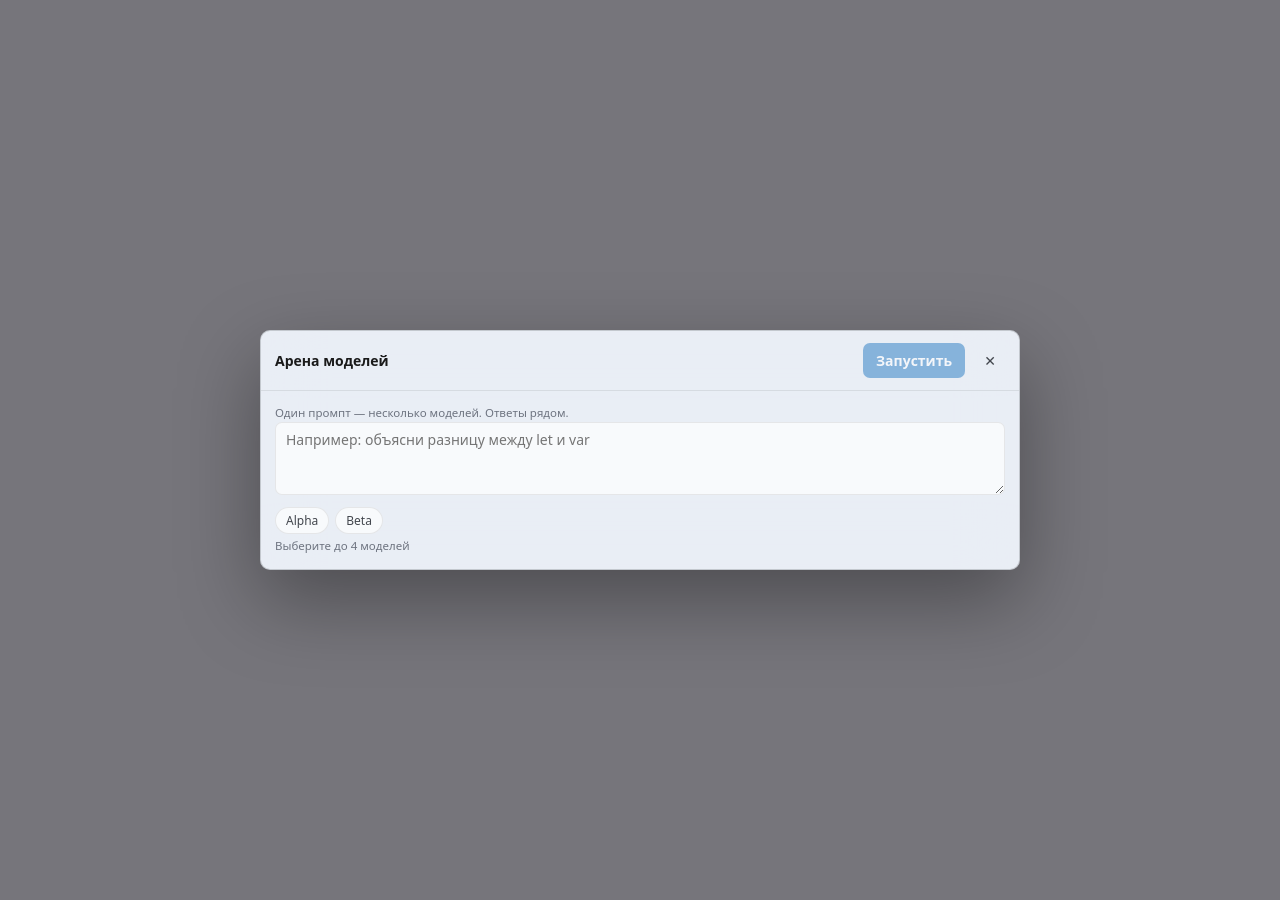
Test: the model arena › will not run on a single model or without a prompt
Expected: the button "Alpha" is shown, top-left (275, 507), bottom-right (329, 534)
# A prompt alone is not enough.
In the text box: (640, 458) top-left (275, 422), bottom-right (1005, 495), type "привет"
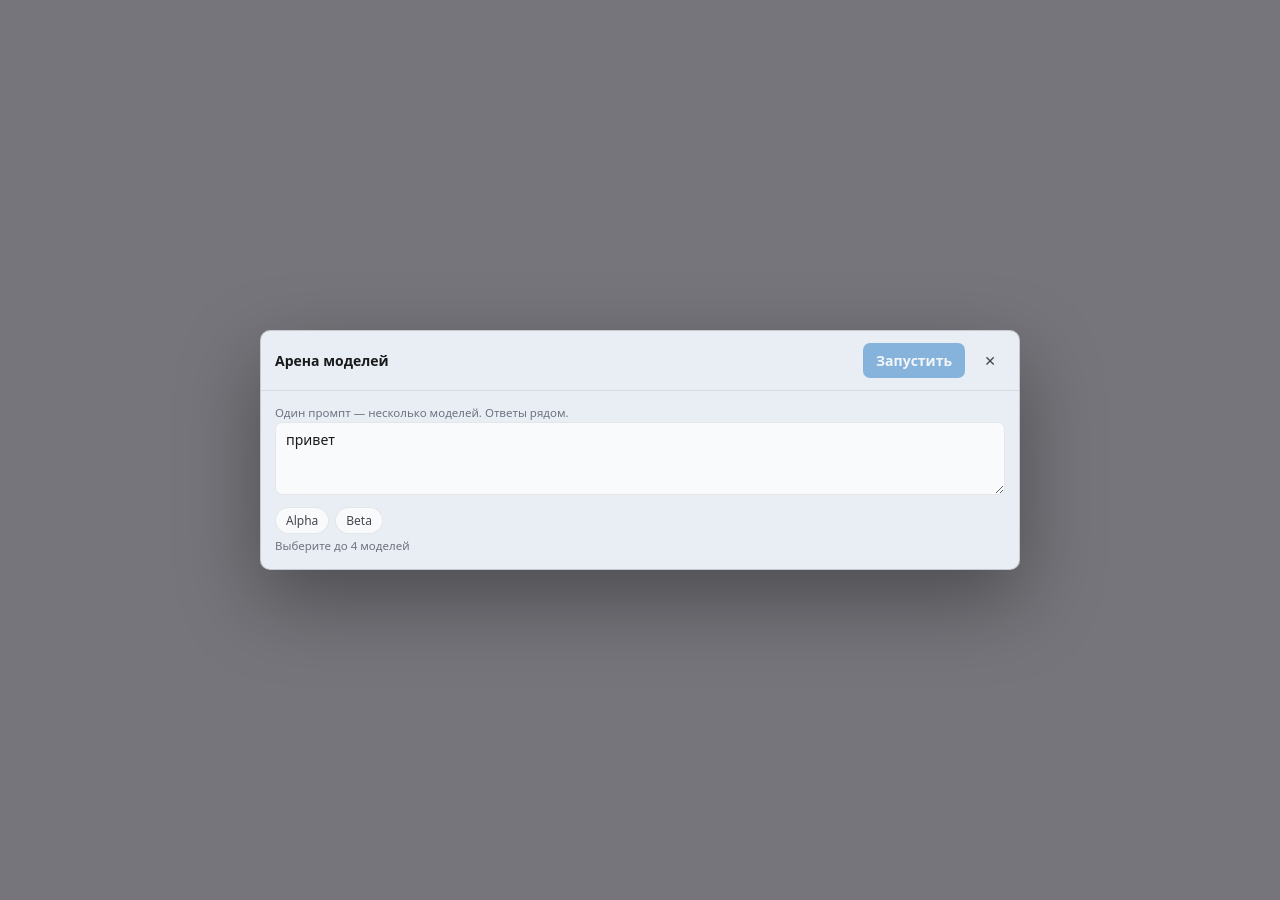
Expected: the button "Запустить" is disabled, top-left (863, 343), bottom-right (965, 378)
# One model still is not a comparison.
Click the button "Alpha": (302, 520) top-left (275, 507), bottom-right (329, 534)
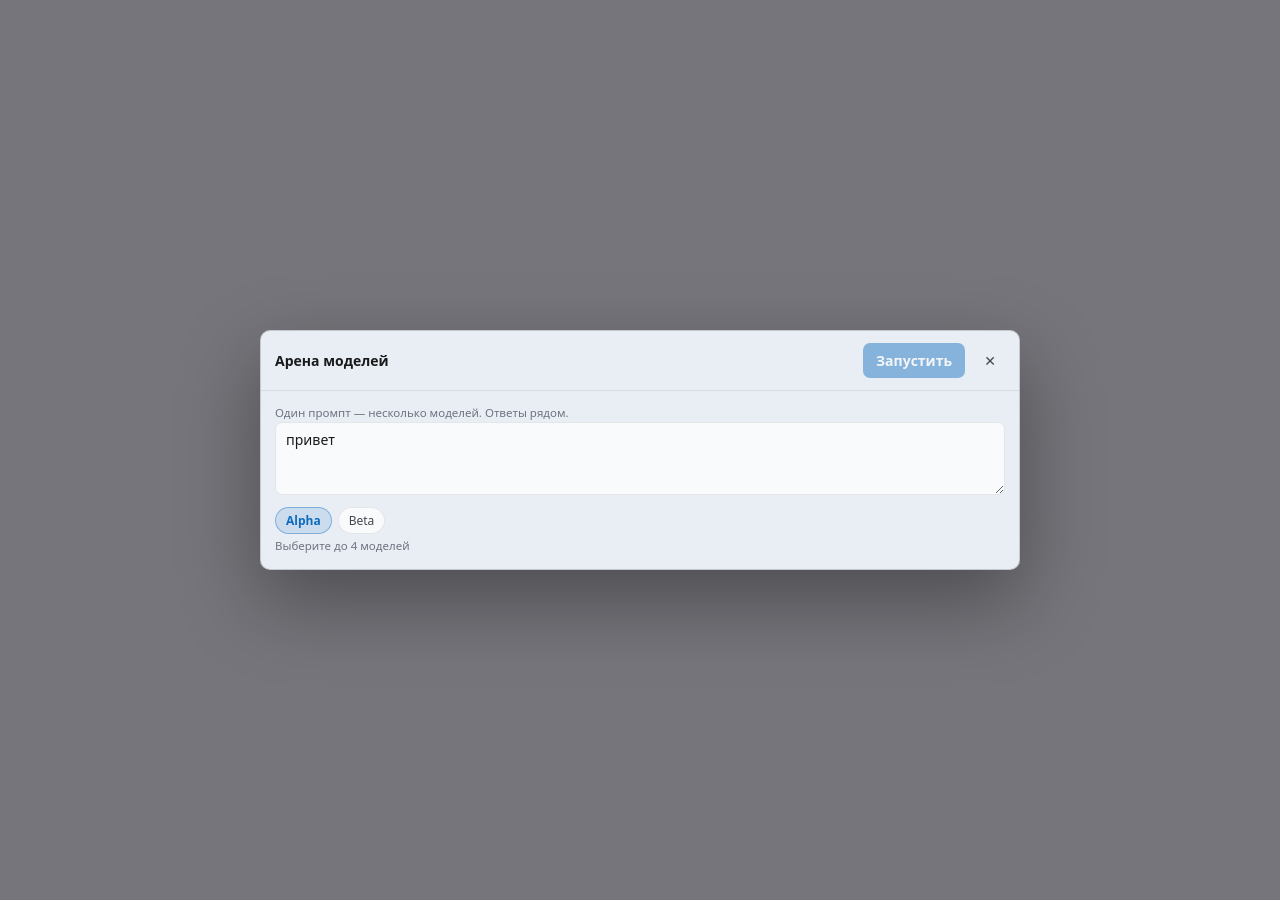
Expected: the button "Запустить" is disabled, top-left (863, 343), bottom-right (965, 378)
# The second model makes it runnable.
Click the button "Beta": (362, 520) top-left (338, 507), bottom-right (385, 534)
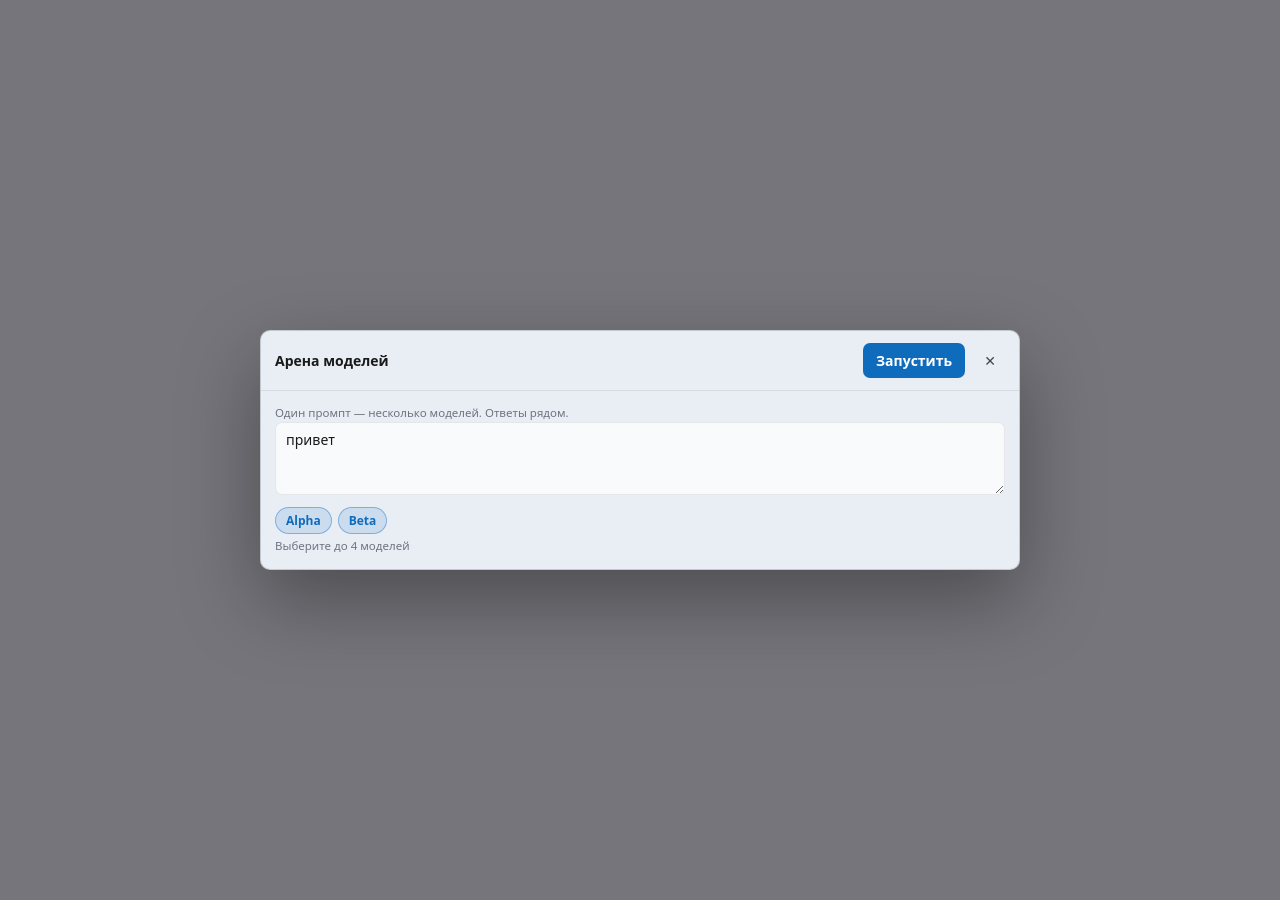
Expected: the button "Запустить" is enabled, top-left (863, 343), bottom-right (965, 378)
